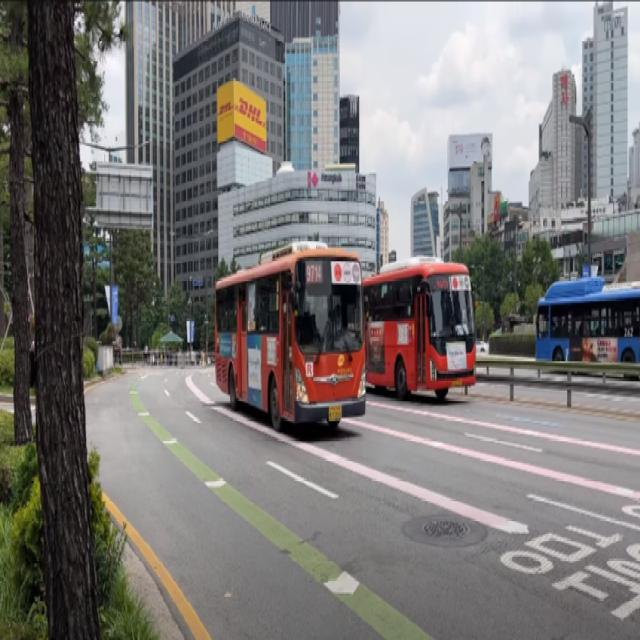bus-number: (306, 263, 322, 284), (436, 277, 448, 290)
